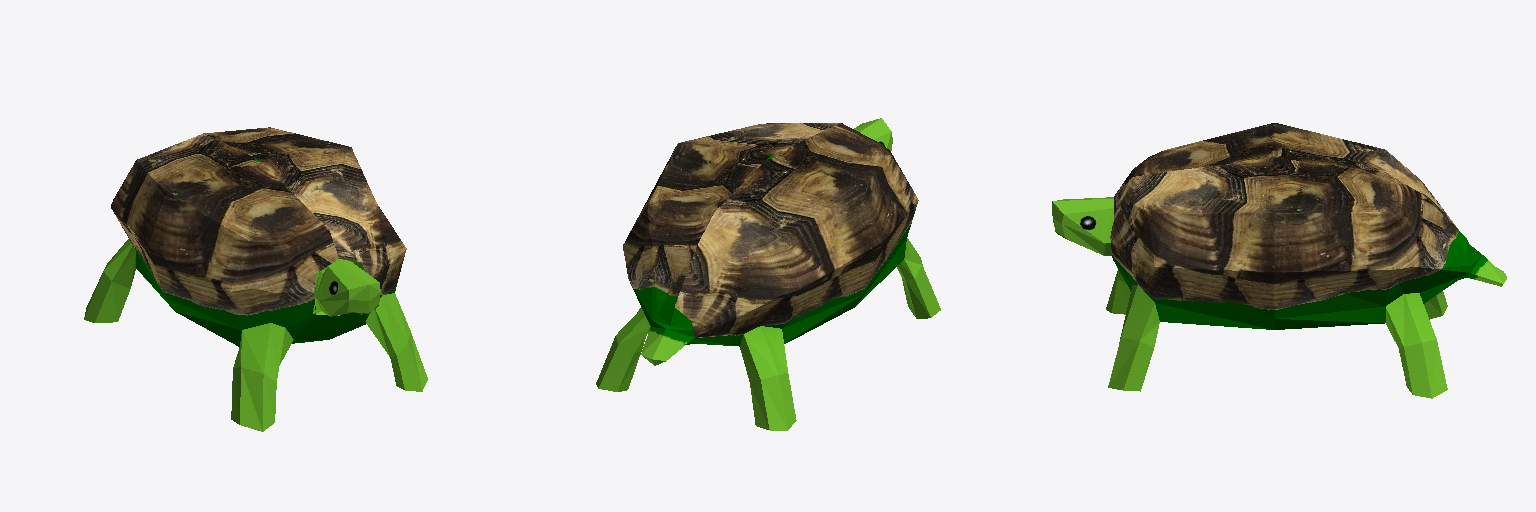
The picture shows the model from 3 angles: view 1: azimuth 30°, elevation 25°; view 2: azimuth 150°, elevation 25°; view 3: azimuth 270°, elevation 25°; orthographic projection.
Visible parts, largest first — view 1: Mesh_Cube_002; view 2: Mesh_Cube_002; view 3: Mesh_Cube_002.
Boxes of the visible parts, x1=… form: Mesh_Cube_002: x1=84, y1=127, x2=427, y2=431; Mesh_Cube_002: x1=596, y1=118, x2=940, y2=430; Mesh_Cube_002: x1=1052, y1=123, x2=1506, y2=398.
Size of the model in its own units: 0.0196 by 0.0166 by 0.0348.
1 materials, 1 textured.